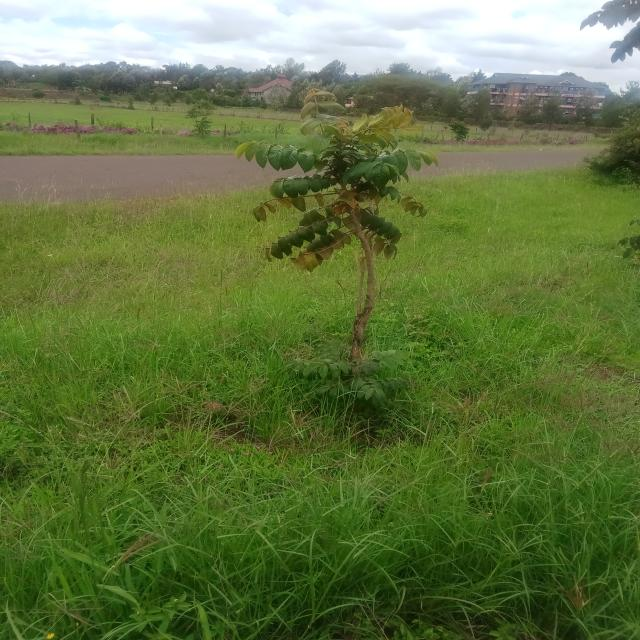Polyscias Kikuyensis: (241, 83, 467, 412)
